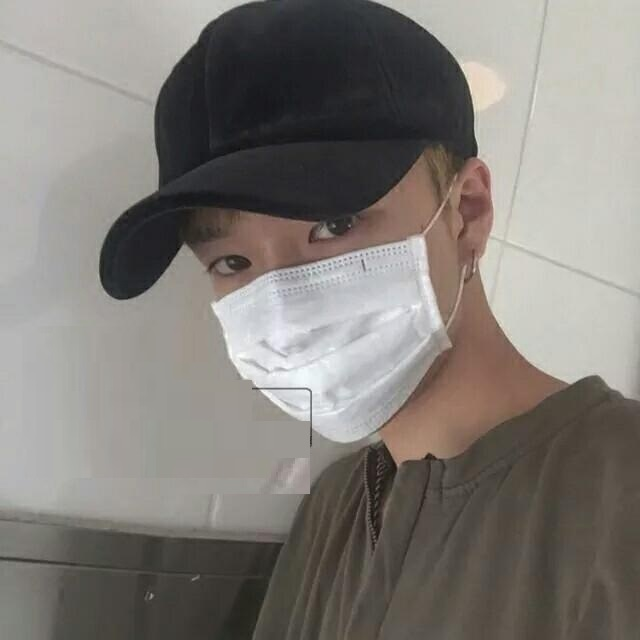face_mask: (206, 128, 437, 440)
